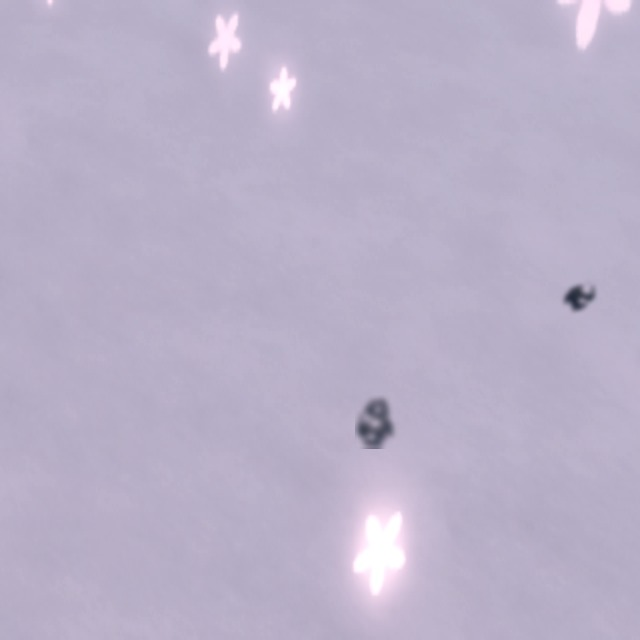urso_preto: (355, 395, 399, 449), (554, 274, 606, 319)
